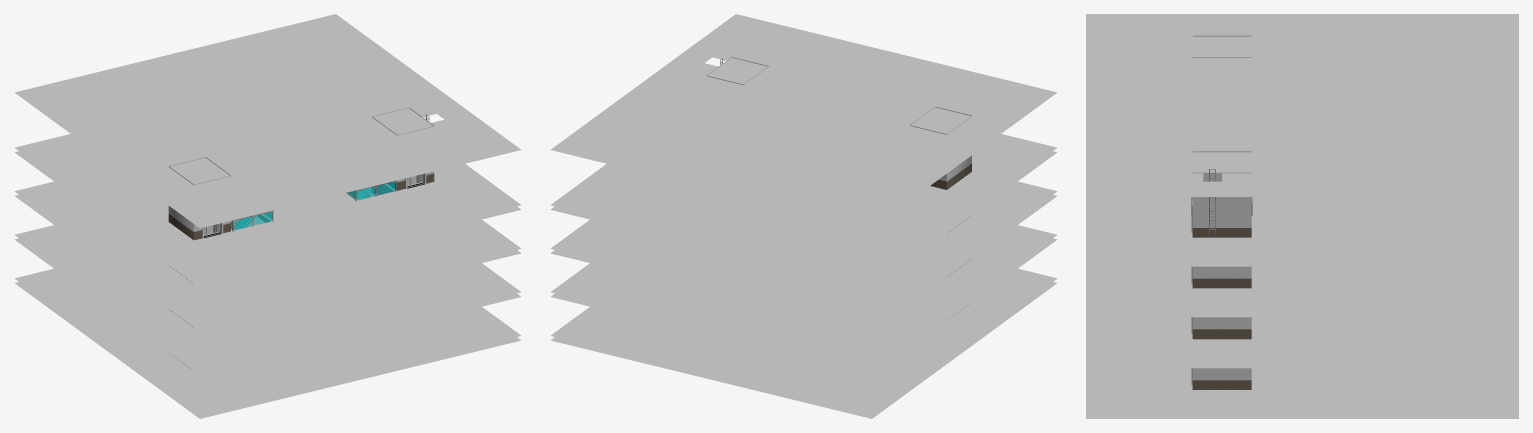
File: Building03_Interior01.fbx
3 views of the same model, side by side, from view 1: azimuth 30°, elevation 25°; view 2: azimuth 150°, elevation 25°; view 3: azimuth 270°, elevation 25° (orthographic). The views are drawn at different scales.
Visible parts, largest first — view 1: Building03_Interior01; view 2: Building03_Interior01; view 3: Building03_Interior01.
Boxes of the visible parts, <box> form: Building03_Interior01: <box>14,14,521,418</box>; Building03_Interior01: <box>550,14,1057,418</box>; Building03_Interior01: <box>1086,14,1518,418</box>.
Bounding box in the file's own units: 3132 × 1865 × 3132.
